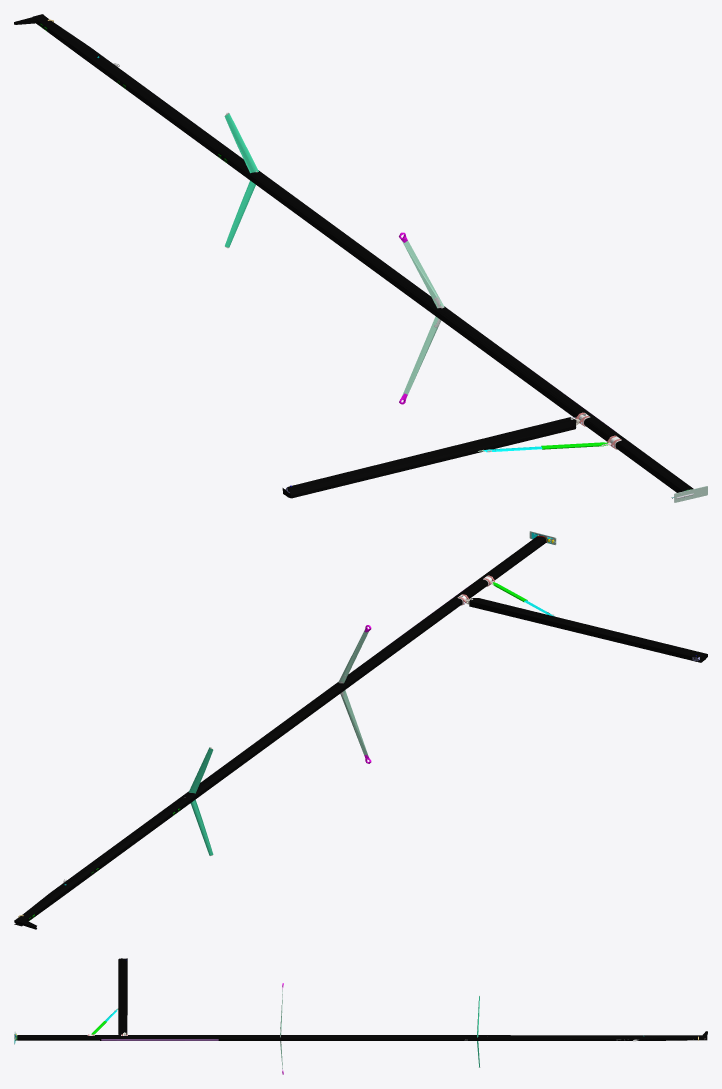
3 views of the same model, one above another, from view 1: azimuth 30°, elevation 25°; view 2: azimuth 150°, elevation 25°; view 3: azimuth 270°, elevation 25° (orthographic). The views are drawn at different scales.
Parts seen in each view (by area): view 1: c0_0_0, c127_255_191, c16_253_135; view 2: c0_0_0, c127_255_191, c16_253_135; view 3: c0_0_0, c158_61_207.
Part boxes in pixels (x1=…): c0_0_0: x1=14, y1=14, x2=693, y2=498; c127_255_191: x1=402, y1=240, x2=444, y2=395; c16_253_135: x1=224, y1=113, x2=258, y2=247; c0_0_0: x1=14, y1=536, x2=707, y2=929; c127_255_191: x1=338, y1=629, x2=368, y2=756; c16_253_135: x1=189, y1=747, x2=213, y2=855; c0_0_0: x1=17, y1=958, x2=707, y2=1040; c158_61_207: x1=101, y1=1039, x2=218, y2=1040.
Bounding box in the file's own units: 6000 × 3094 × 21296.
